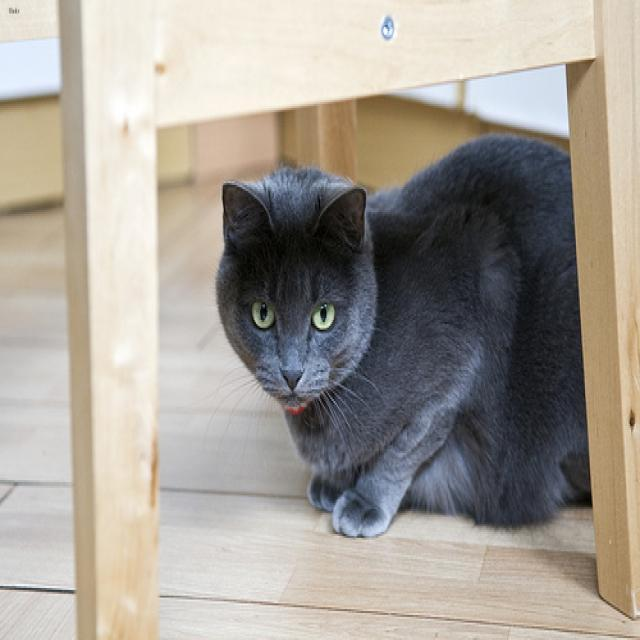Russian_Blue: (215, 181, 365, 407)
